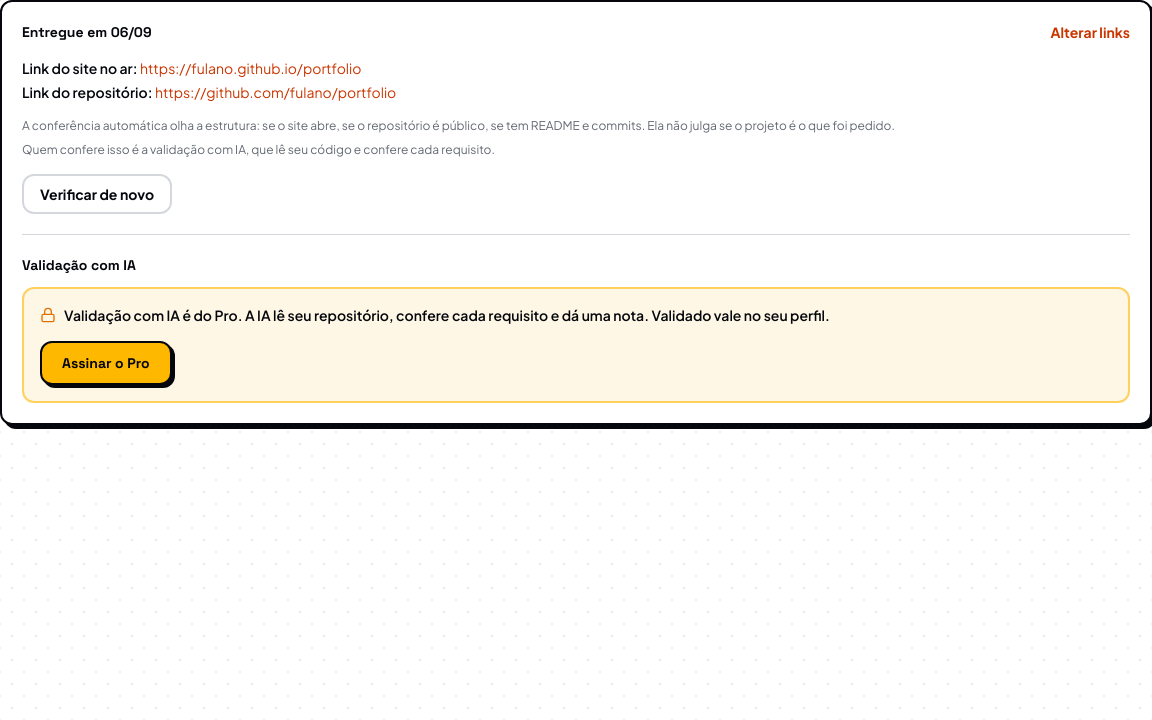
Test: com entrega ja enviada › Alterar links reabre o formulario preenchido
Click the button "Alterar links" at (1090, 32), box x1=1050 y1=22 x2=1130 y2=42
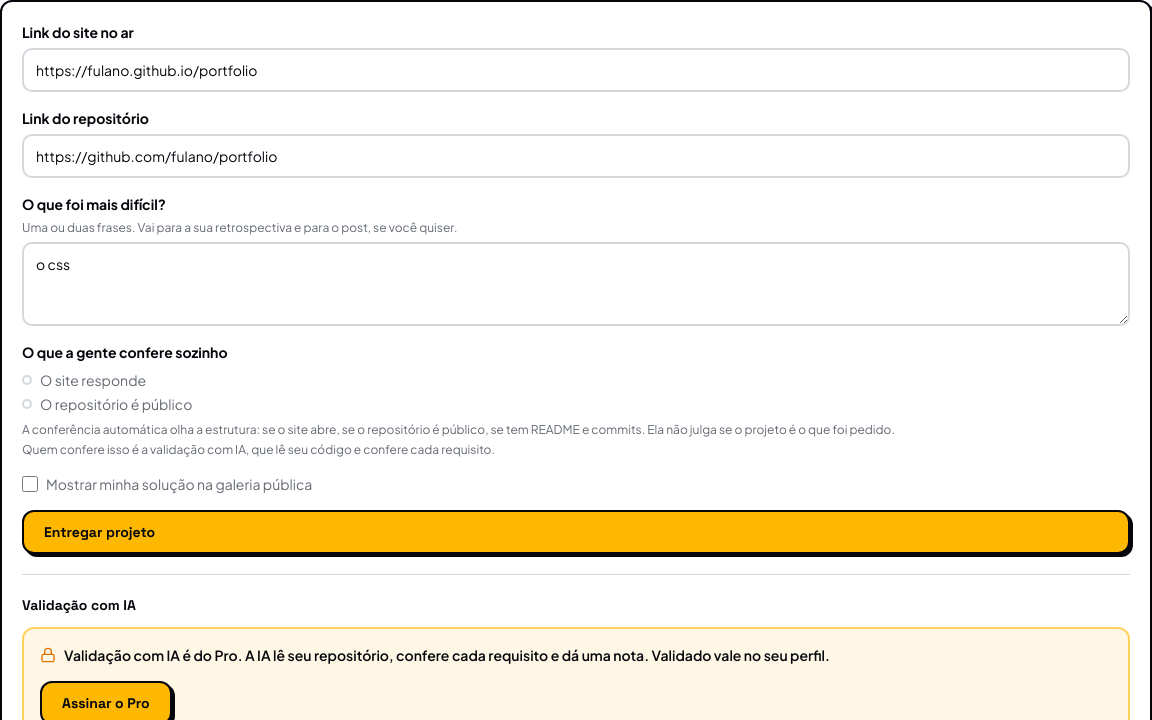
Now the field labelled "Link do site no ar" holds "https://fulano.github.io/portfolio", box x1=22 y1=48 x2=1130 y2=92
